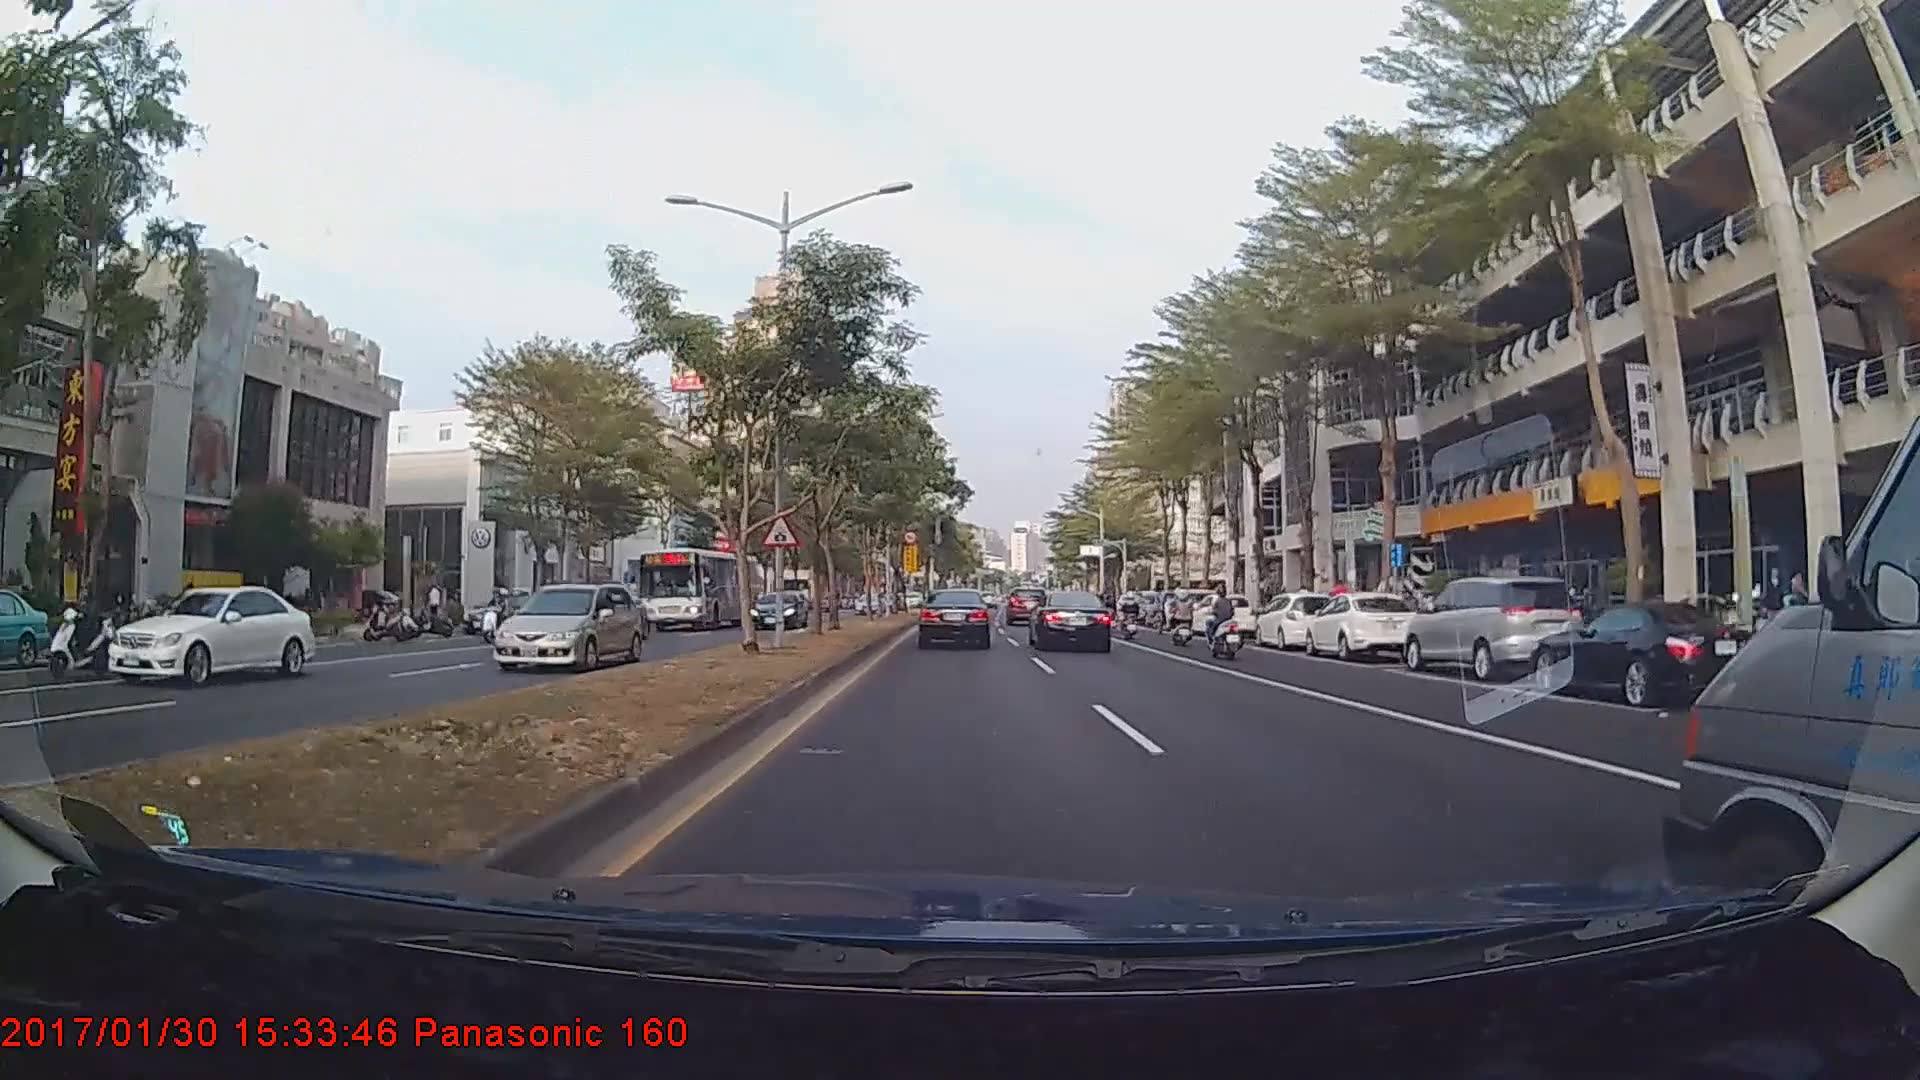rider: (45, 578, 123, 683), (1202, 582, 1251, 660), (1156, 590, 1205, 646), (477, 585, 516, 642), (1117, 586, 1144, 638)
vehicle: (1666, 546, 1916, 882), (1528, 601, 1768, 708), (104, 581, 317, 688), (1403, 570, 1587, 681), (489, 577, 642, 672), (635, 544, 759, 629), (1302, 589, 1417, 658), (1029, 588, 1113, 654), (1249, 588, 1339, 648), (919, 587, 992, 650), (0, 581, 51, 668), (1189, 591, 1254, 634), (746, 588, 808, 629), (1005, 586, 1046, 625)
